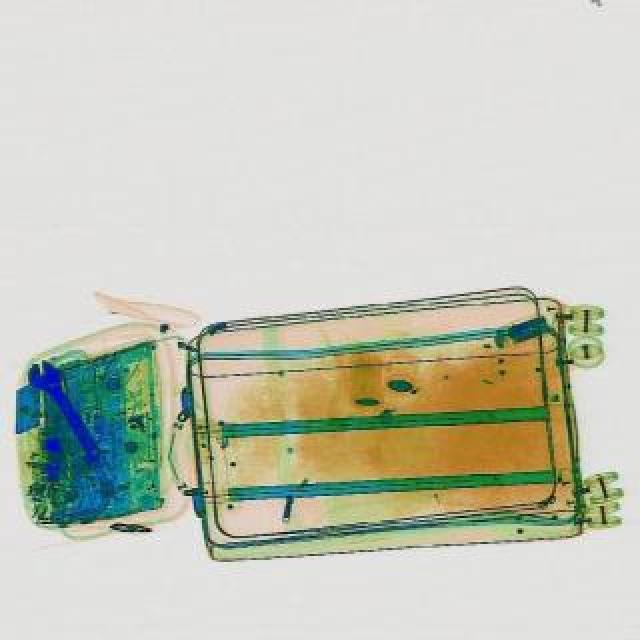scissors: (20, 354, 112, 470)
